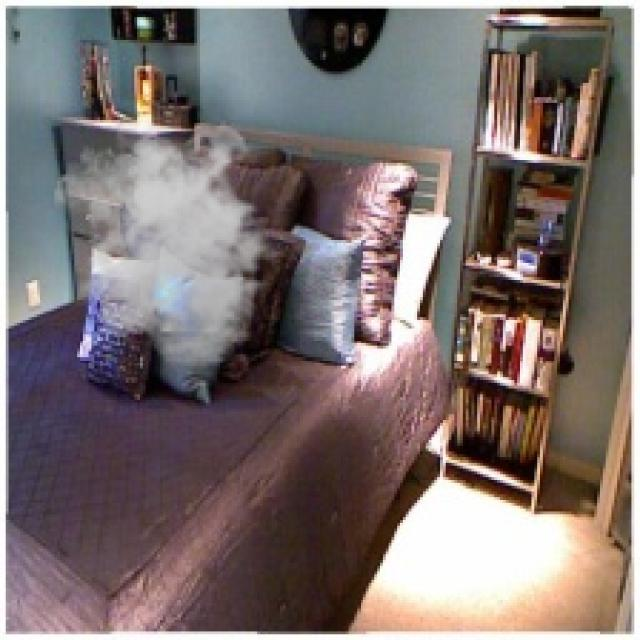smoke: (55, 117, 292, 369)
